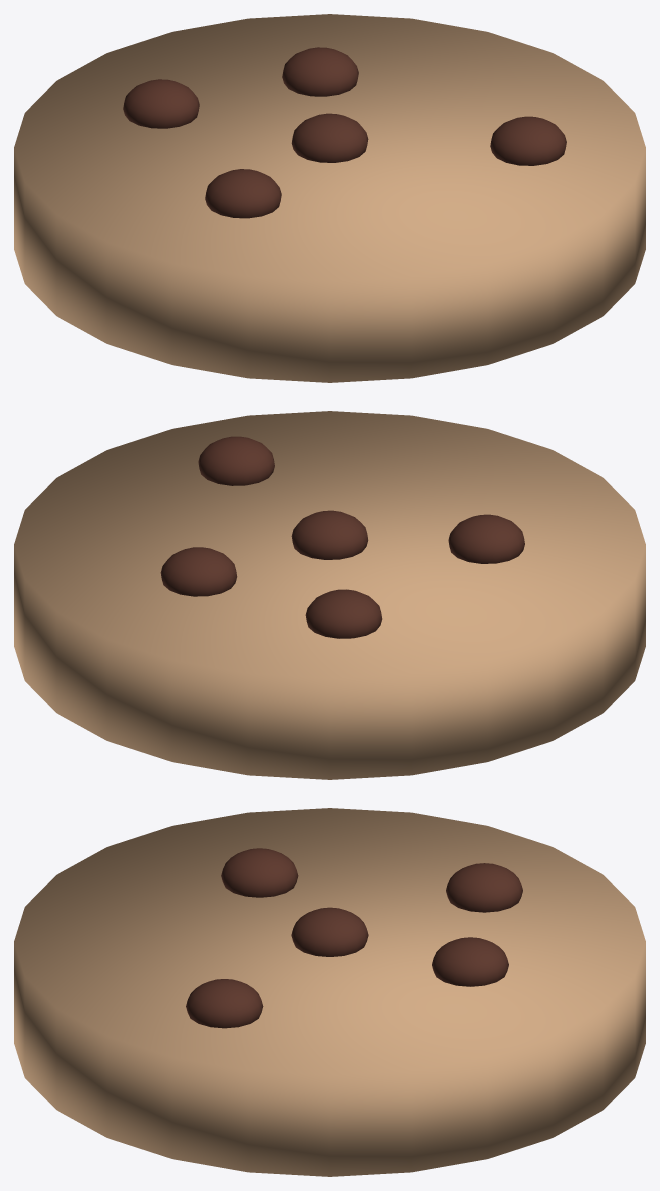
File: word-cookie.glb
3 renders of one model, top to bottom at view 1: azimuth 30°, elevation 25°; view 2: azimuth 150°, elevation 25°; view 3: azimuth 270°, elevation 25°, orthographic.
Parts seen in each view (by area): view 1: cookie, chocolate chip.001, chocolate chip.003, chocolate chip.002, chocolate chip, chocolate chip.004; view 2: cookie, chocolate chip.002, chocolate chip.001, chocolate chip, chocolate chip.003, chocolate chip.004; view 3: cookie, chocolate chip, chocolate chip.002, chocolate chip.003, chocolate chip.004, chocolate chip.001.
Part boxes in pixels (left/top/right/bottom): cookie: left=14, top=14, right=645, bottom=382; chocolate chip.001: left=282, top=47, right=358, bottom=96; chocolate chip.003: left=123, top=79, right=199, bottom=128; chocolate chip.002: left=490, top=116, right=566, bottom=165; chocolate chip: left=205, top=169, right=281, bottom=218; chocolate chip.004: left=291, top=113, right=368, bottom=162; cookie: left=14, top=411, right=645, bottom=779; chocolate chip.002: left=198, top=436, right=274, bottom=485; chocolate chip.001: left=160, top=547, right=237, bottom=596; chocolate chip: left=448, top=514, right=524, bottom=563; chocolate chip.003: left=305, top=589, right=382, bottom=638; chocolate chip.004: left=291, top=510, right=368, bottom=559; cookie: left=14, top=808, right=645, bottom=1176; chocolate chip: left=221, top=848, right=298, bottom=897; chocolate chip.002: left=186, top=979, right=263, bottom=1028; chocolate chip.003: left=446, top=863, right=522, bottom=912; chocolate chip.004: left=291, top=907, right=368, bottom=956; chocolate chip.001: left=432, top=937, right=508, bottom=986.
Bounding box in the file's own units: 0.9 × 0.205 × 0.9.
